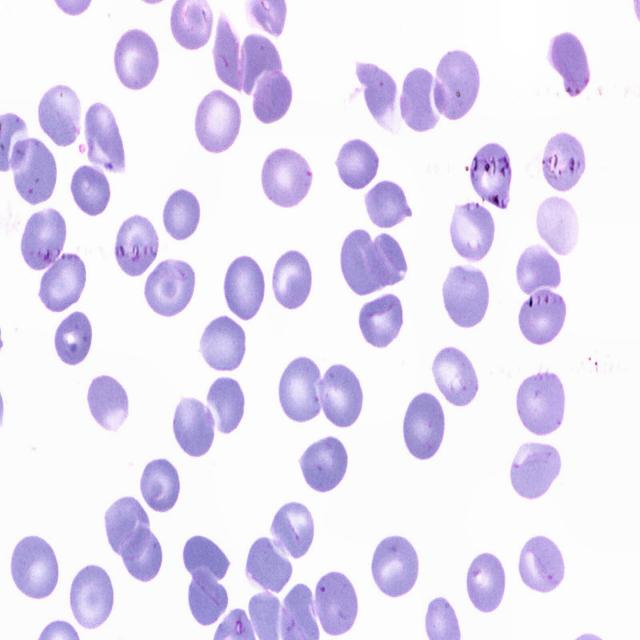red blood cell: (80, 102, 130, 181), (368, 533, 424, 600), (8, 134, 60, 206), (432, 50, 481, 125), (516, 368, 566, 439), (68, 561, 118, 632), (402, 387, 448, 464), (192, 88, 244, 156), (8, 533, 60, 601), (278, 354, 328, 424), (440, 263, 492, 330), (338, 230, 390, 296), (260, 147, 314, 210), (312, 564, 359, 636), (113, 209, 162, 278), (516, 286, 572, 346), (468, 142, 516, 212), (316, 363, 366, 430), (537, 128, 588, 193), (142, 259, 197, 319), (298, 435, 352, 496), (34, 84, 86, 147), (19, 205, 70, 269), (431, 344, 482, 408), (355, 61, 399, 135), (112, 26, 162, 91), (510, 439, 562, 499), (168, 395, 218, 457), (448, 200, 497, 263), (223, 253, 267, 323), (534, 193, 582, 257), (103, 496, 151, 560), (398, 64, 441, 135), (516, 533, 566, 594), (210, 10, 247, 92), (269, 500, 317, 563), (38, 253, 88, 313), (238, 33, 283, 99), (550, 25, 590, 99), (356, 293, 407, 350), (464, 548, 508, 614), (247, 534, 296, 593), (514, 242, 565, 298), (199, 316, 249, 373), (271, 249, 315, 311), (337, 135, 384, 192), (250, 66, 296, 124), (88, 370, 131, 432), (364, 177, 413, 230), (182, 532, 232, 583), (119, 526, 166, 580), (206, 374, 247, 435), (139, 455, 181, 514), (187, 568, 228, 626), (52, 309, 94, 365), (370, 232, 410, 289), (164, 186, 203, 242), (70, 165, 111, 218)
